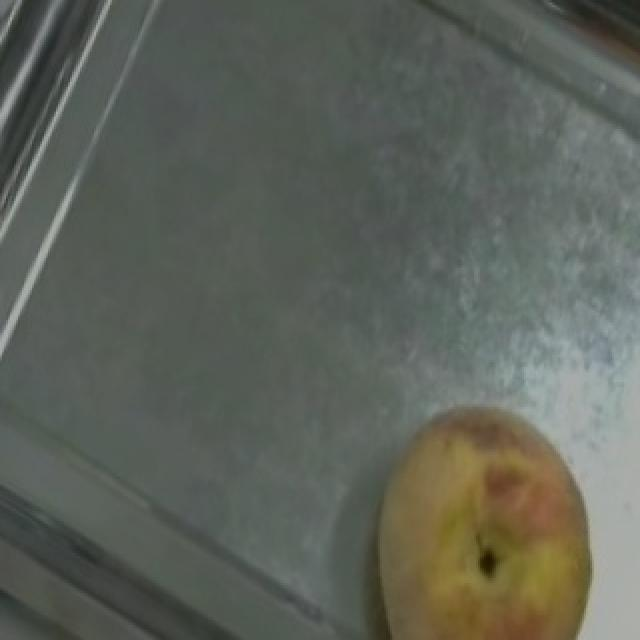Fruit: (326, 379, 620, 640)
